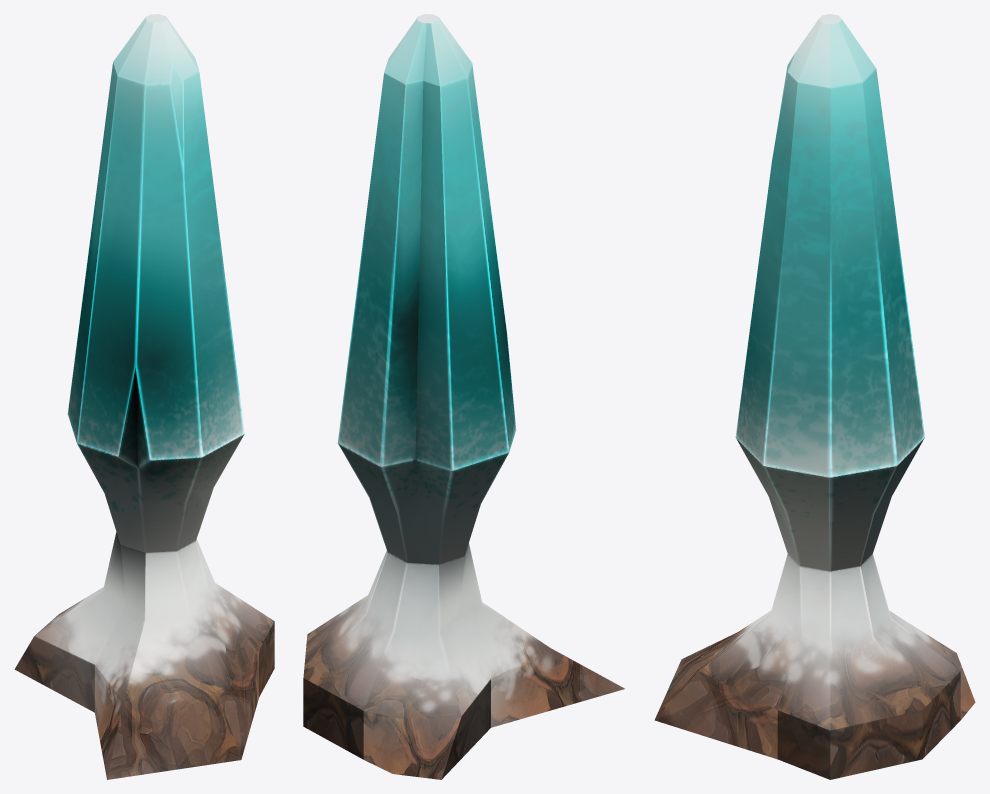
Rendered from Crystal_54.fbx.
The picture shows the model from 3 angles, left to right: view 1: azimuth 30°, elevation 25°; view 2: azimuth 150°, elevation 25°; view 3: azimuth 270°, elevation 25°; orthographic projection. The views are drawn at different scales.
Visible parts, largest first — view 1: Crystal_54; view 2: Crystal_54; view 3: Crystal_54.
Part boxes in pixels (box(x1,y1,x2,y2)): Crystal_54: box(14, 14, 274, 779); Crystal_54: box(303, 14, 624, 779); Crystal_54: box(654, 14, 975, 779).
Bounding box in the file's own units: 36.31 × 98.42 × 40.83.
